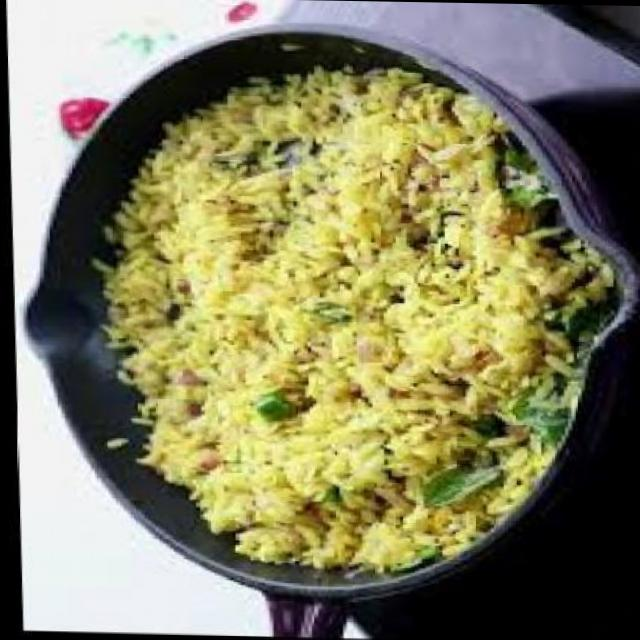poha: (80, 61, 626, 578)
